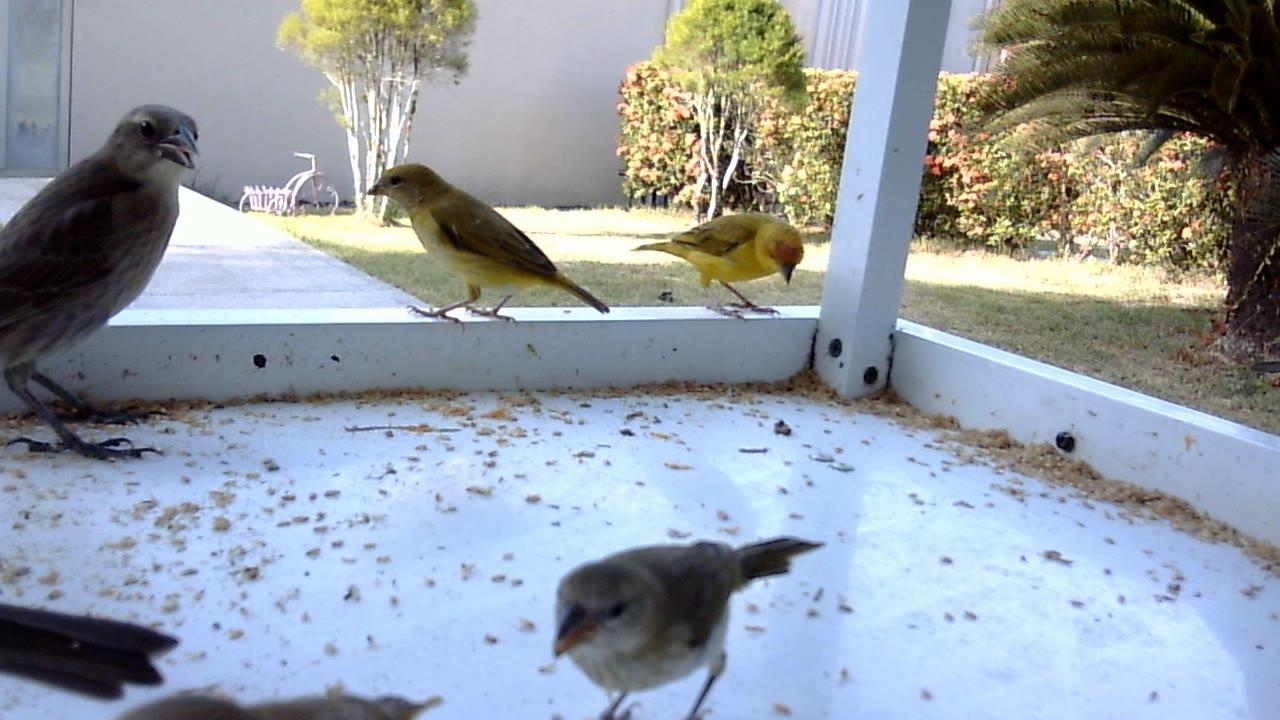canario_do_amazonas: (549, 530, 832, 720), (363, 161, 613, 335), (628, 211, 809, 324)
chupim: (1, 102, 204, 467)
